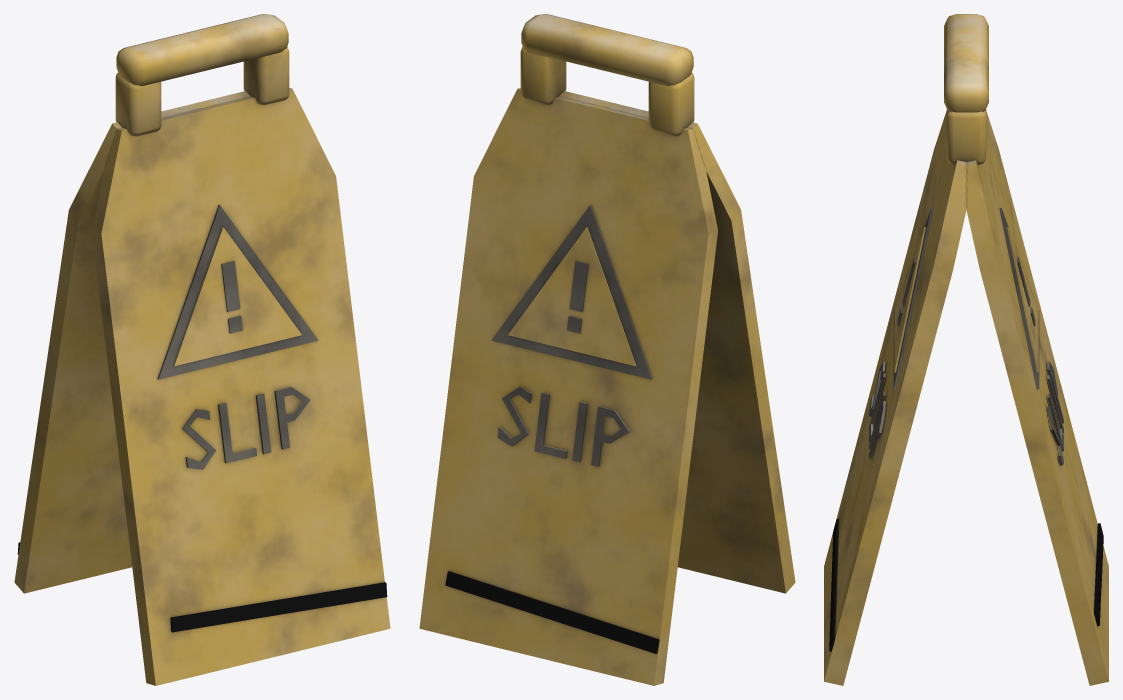
File: wet_floor_sign.fbx
3 views of the same model, side by side, from view 1: azimuth 30°, elevation 25°; view 2: azimuth 150°, elevation 25°; view 3: azimuth 270°, elevation 25° (orthographic).
Visible parts, largest first — view 1: Body; view 2: Body; view 3: Body.
Part boxes in pixels (x1,y1,x2,y2): Body: (14, 14, 390, 685); Body: (419, 14, 795, 685); Body: (824, 14, 1108, 685).
Size of the model in its own units: 1.1 by 2.58 by 1.15.
1 material, 1 textured.
